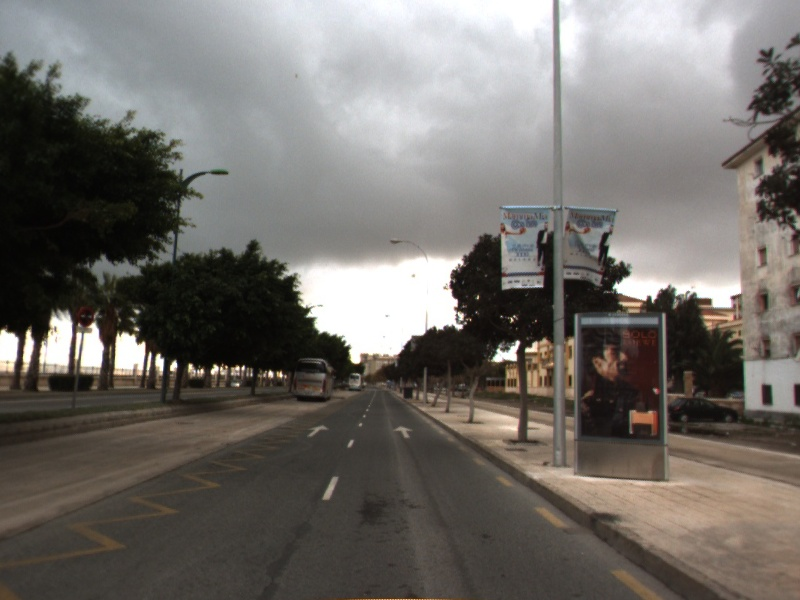STRAIGHT: (305, 423, 331, 439), (391, 424, 416, 440)
